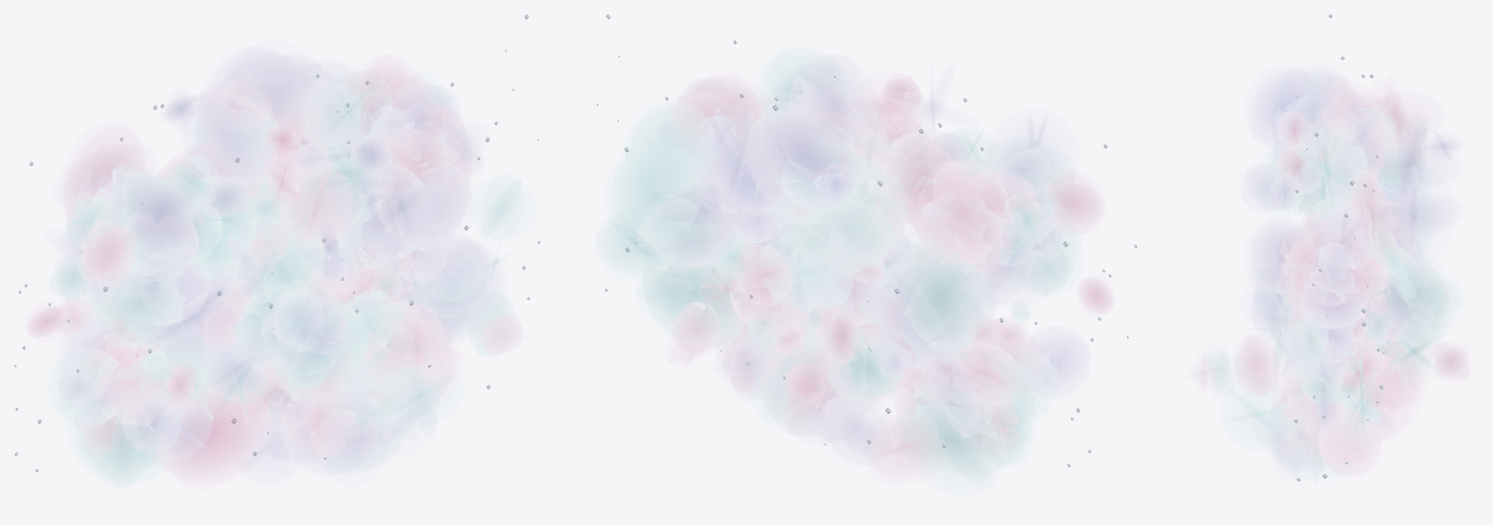
3 views of the same model, side by side, from view 1: azimuth 30°, elevation 25°; view 2: azimuth 150°, elevation 25°; view 3: azimuth 270°, elevation 25° (orthographic). The views are drawn at different scales.
Size of the model in its own units: 5.69 by 4.78 by 3.34.
